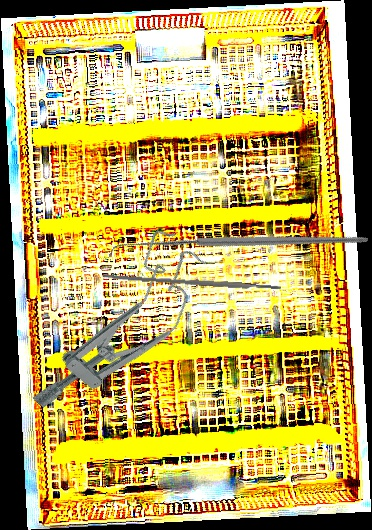Hook Surgical: (108, 132, 369, 363)
Scalpel Handle: (102, 272, 282, 293)
Speculum: (20, 223, 222, 439)
